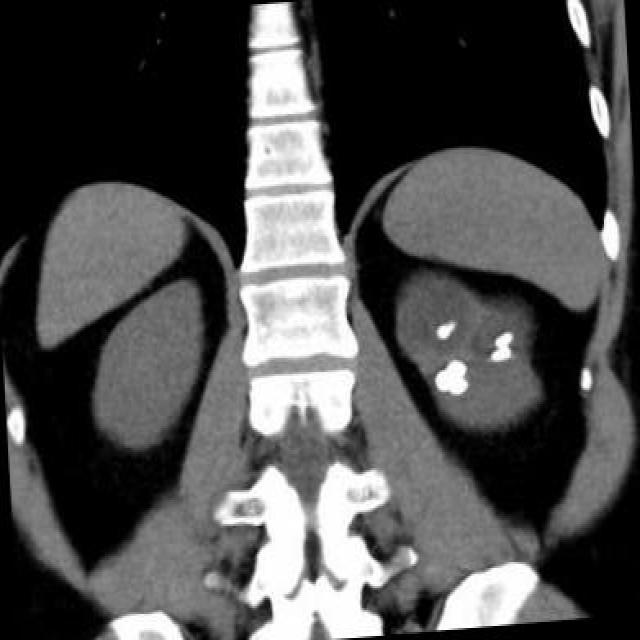Tas_Var: (431, 356, 473, 402), (488, 347, 517, 365), (490, 330, 515, 348), (434, 320, 450, 346), (447, 318, 458, 334)
